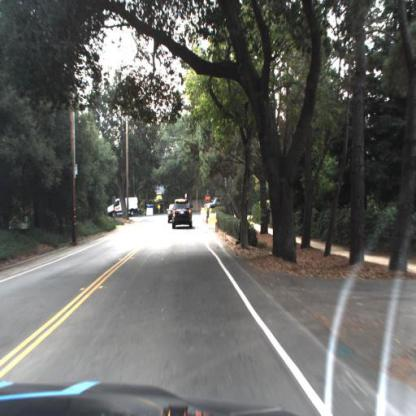car: (171, 197, 194, 232), (203, 192, 223, 210), (168, 203, 176, 222), (169, 202, 174, 226)
truck: (108, 194, 141, 219)
